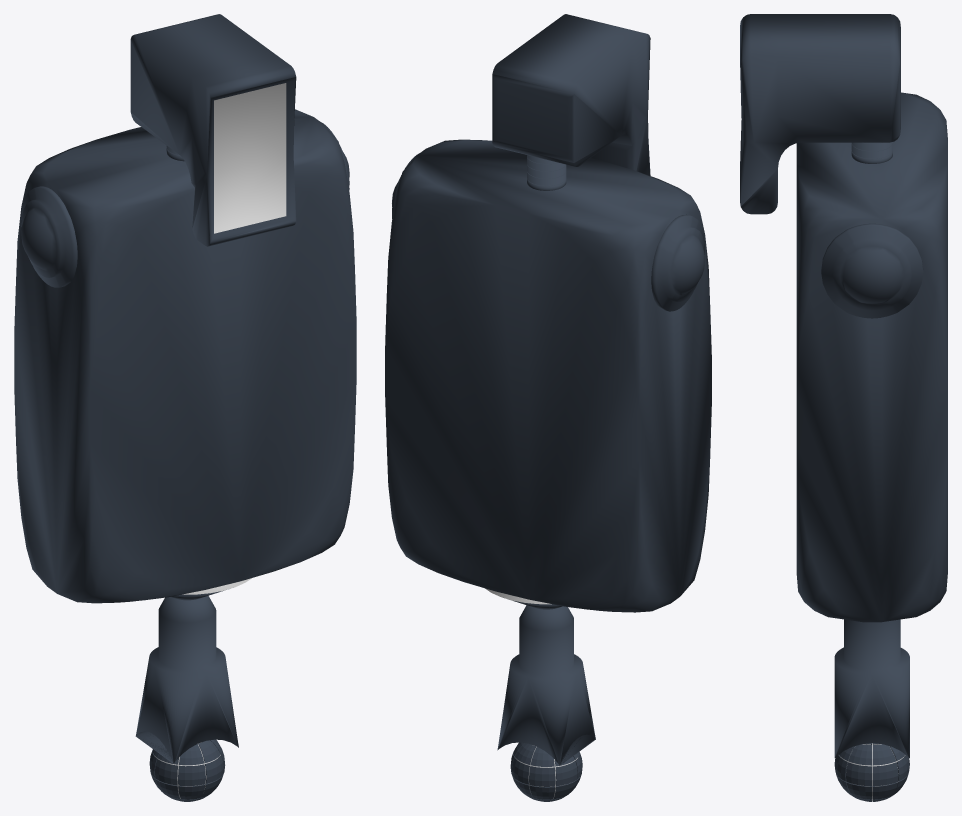
File: RobotPlayerBaseFini.fbx
3 renders of one model, left to right at view 1: azimuth 30°, elevation 25°; view 2: azimuth 150°, elevation 25°; view 3: azimuth 270°, elevation 25°, orthographic. The views are drawn at different scales.
Parts seen in each view (by area): view 1: Corps, Tête, Jambe, Epaule, RoueOmni; view 2: Corps, Tête, Jambe, Epaule, RoueOmni, Cou; view 3: Corps, Tête, Jambe, Epaule, RoueOmni, Cou.
Part boxes in pixels (<box>): Corps: <box>14,109,356,603</box>; Tête: <box>130,14,296,246</box>; Jambe: <box>135,578,251,763</box>; Epaule: <box>21,122,349,287</box>; RoueOmni: <box>149,739,225,801</box>; Corps: <box>385,139,711,612</box>; Tête: <box>492,14,650,175</box>; Jambe: <box>485,588,595,765</box>; Epaule: <box>392,153,704,311</box>; RoueOmni: <box>510,742,582,801</box>; Cou: <box>527,155,566,190</box>; Corps: <box>796,92,947,622</box>; Tête: <box>740,14,900,214</box>; Jambe: <box>834,619,909,757</box>; Epaule: <box>821,223,923,318</box>; RoueOmni: <box>834,743,909,801</box>; Cou: <box>851,142,892,163</box>.
Size of the model in its own units: 969 by 2234 by 551.
